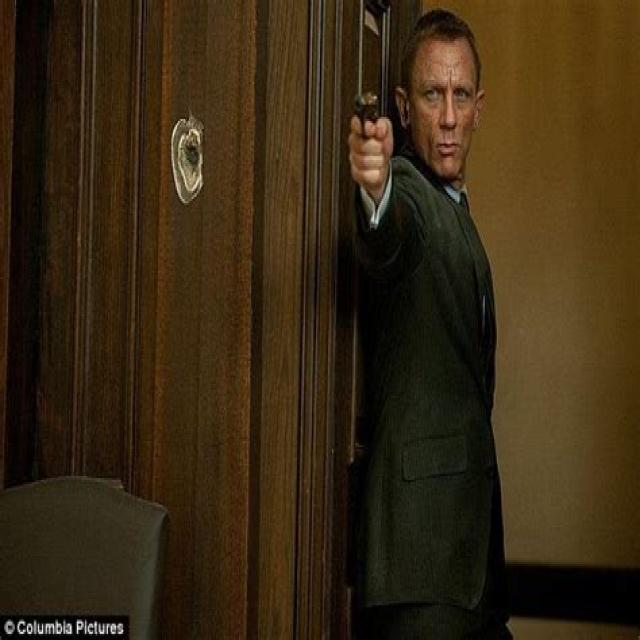weapons: (334, 64, 401, 219)
